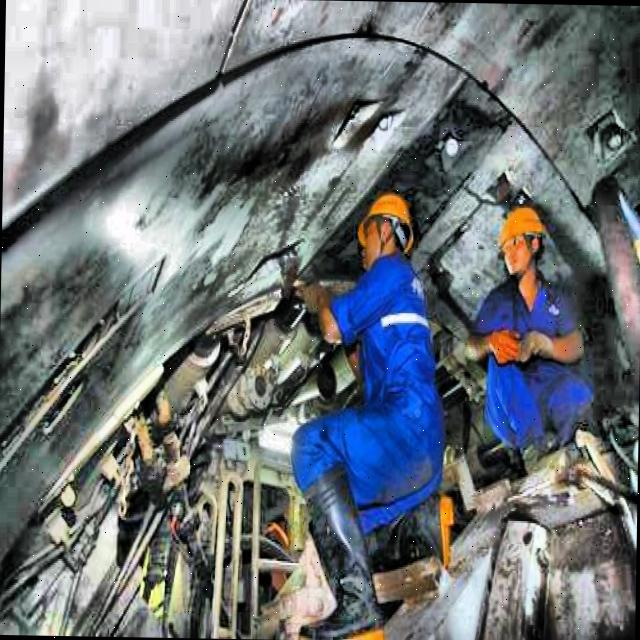helmet: (353, 182, 417, 276), (495, 200, 550, 282)
